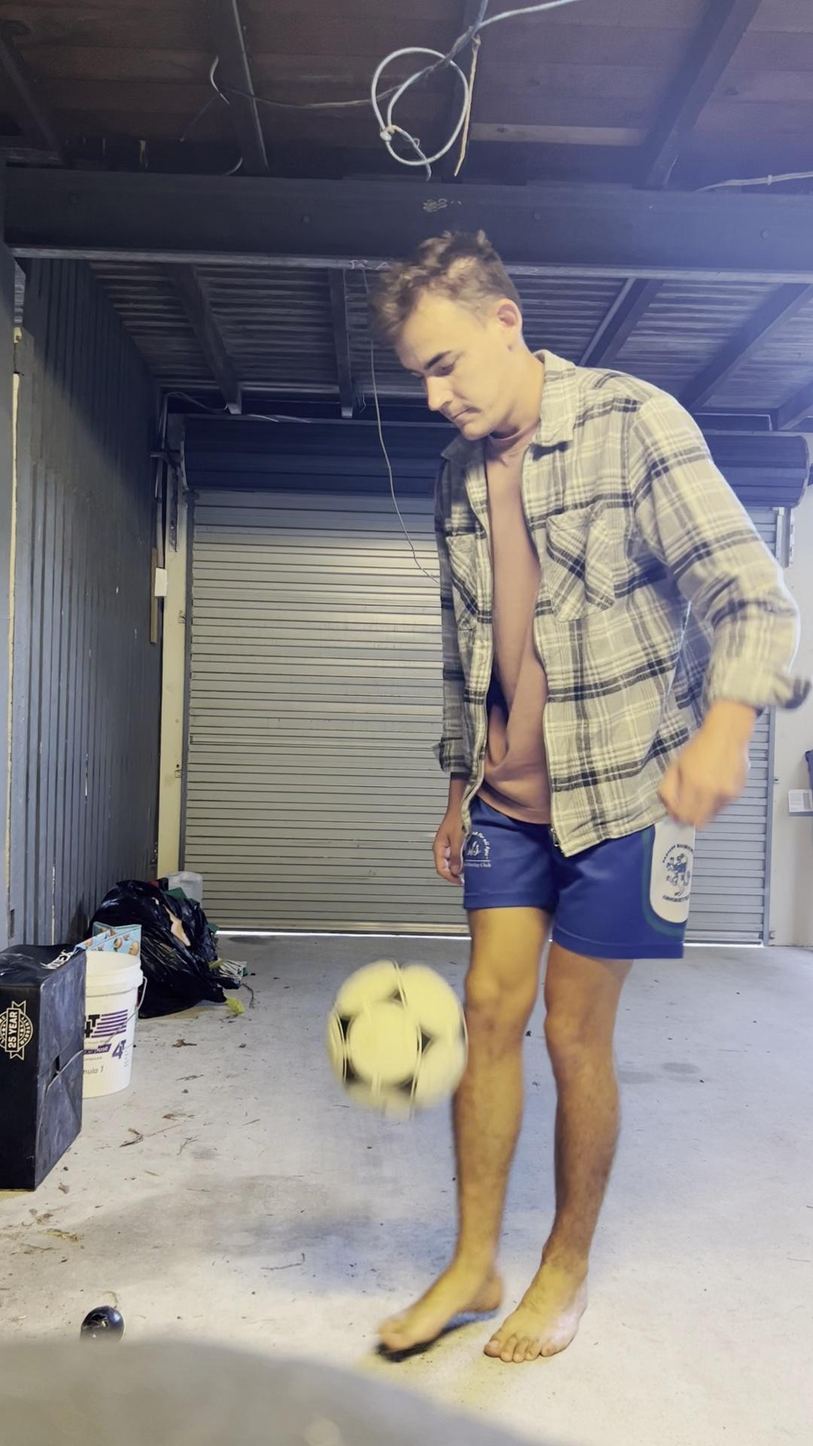ball: (326, 956, 465, 1117)
foot: (373, 1240, 510, 1362), (482, 1250, 589, 1368)
person: (370, 226, 813, 1362)
